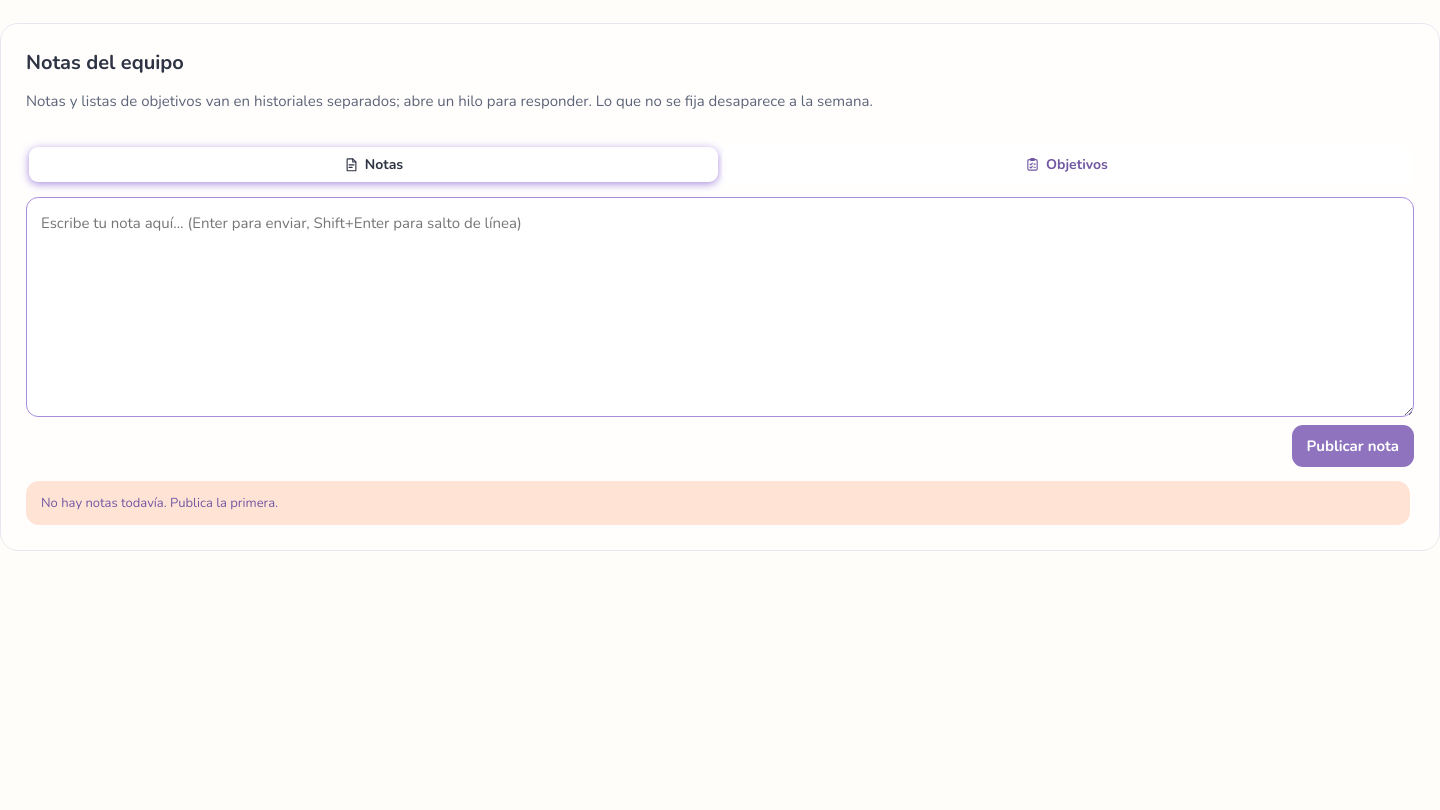
Notas: historiales separados por pestaña › al editar una lista se pueden cambiar sus objetivos (editar texto y agregar)
Click the button "Objetivos" at (1066, 164), box [722, 147, 1411, 182]
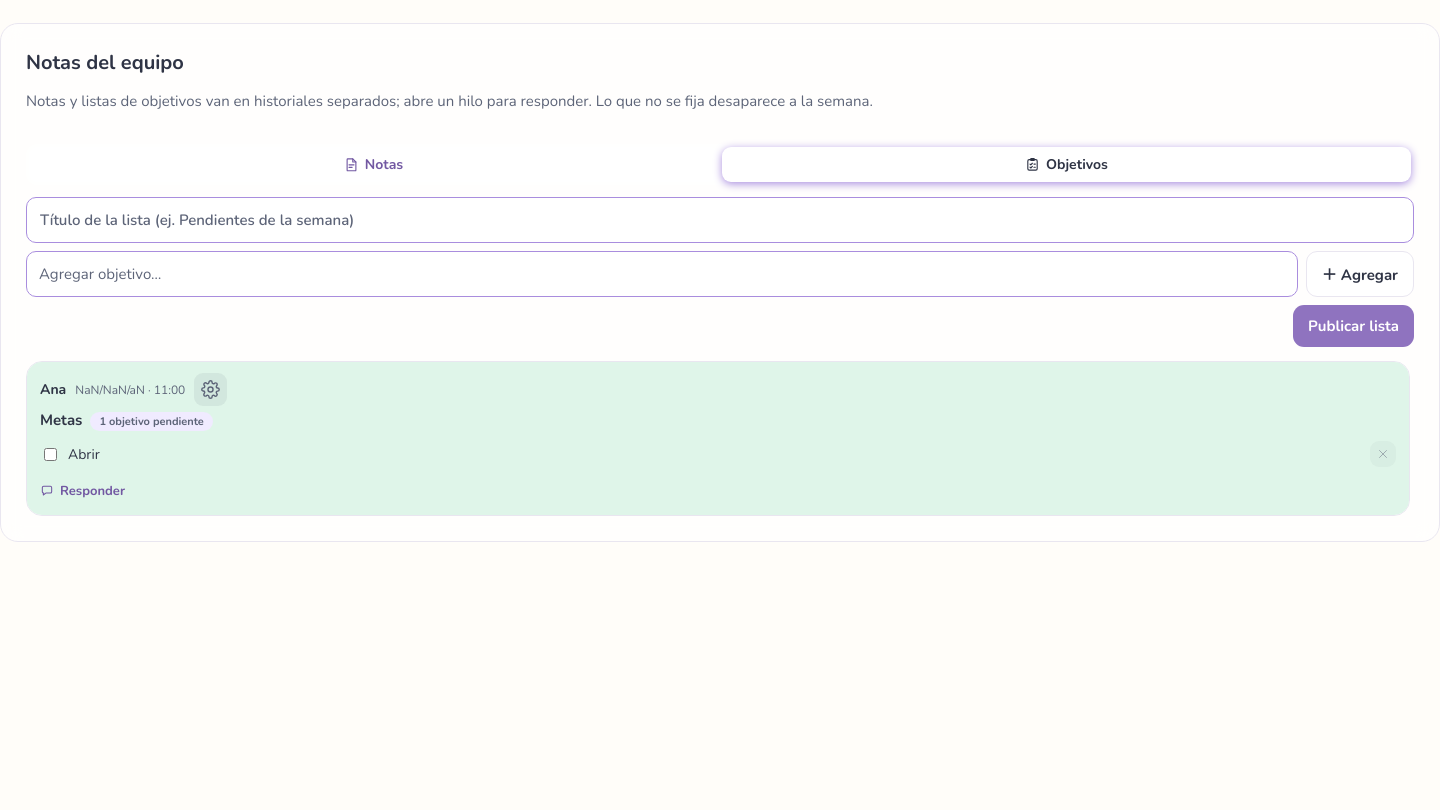
Click the button titled "Opciones" at (211, 390), box [194, 373, 227, 406]
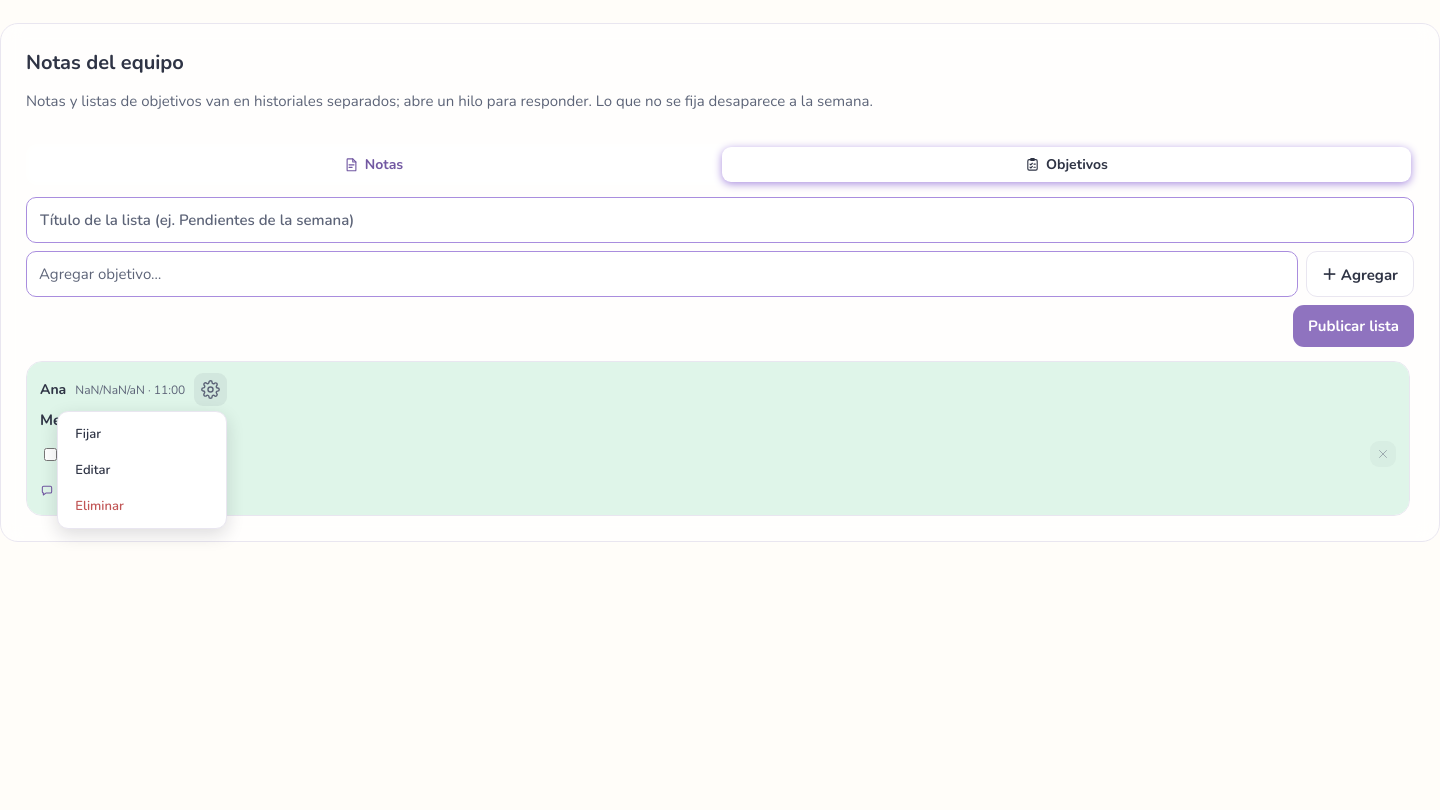
Click the button "Editar" at (142, 470), box [63, 453, 221, 487]
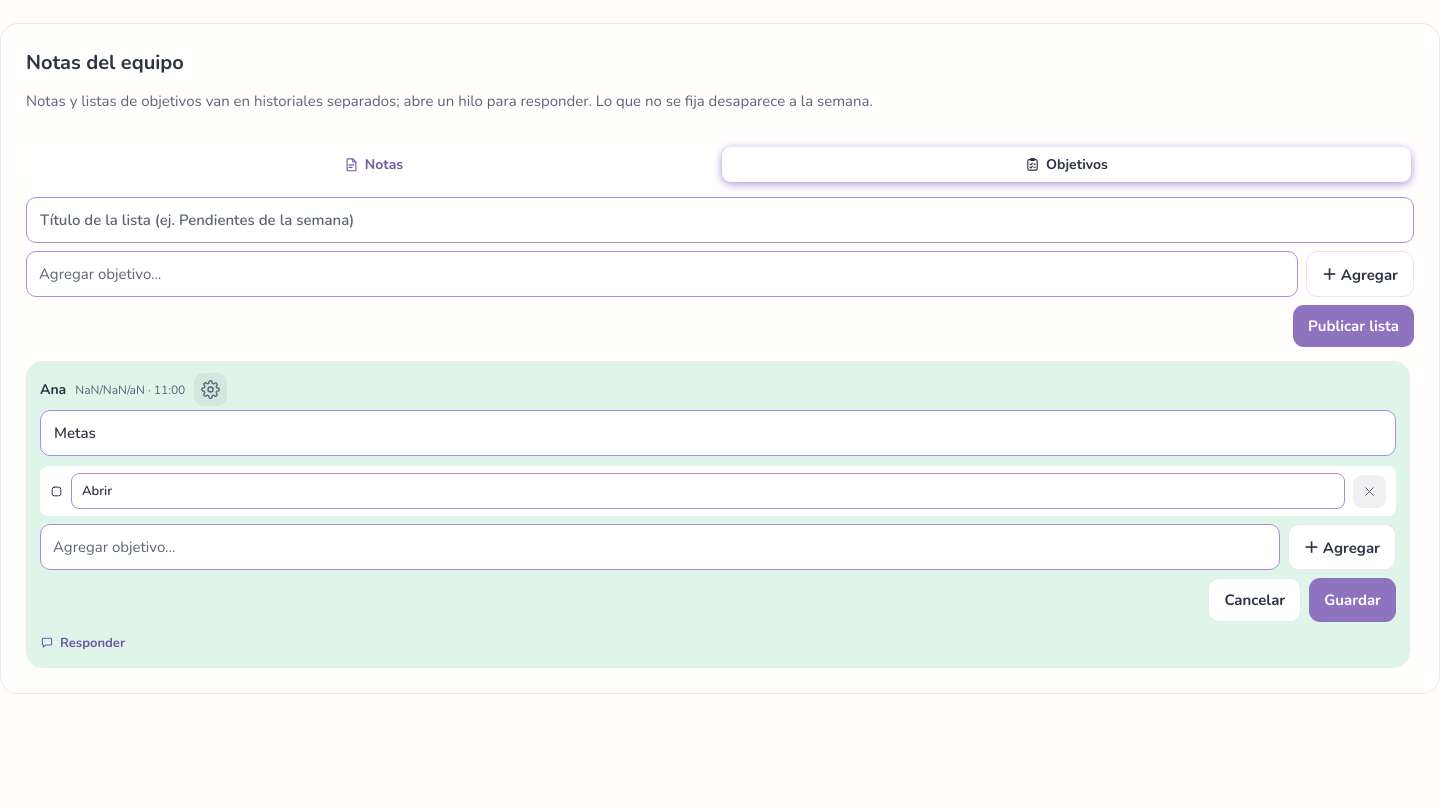
Now the element with class "checklist-edit-box" is shown, box [40, 410, 1396, 622]
Now the field with class "checklist-edit-item" holds "Abrir"
Replace the text in the field with class "checklist-edit-item" with "Abrir la tienda" at (708, 491), box [71, 473, 1345, 509]
Type "Cerrar bien" into the field with placeholder "Agregar objetivo…" below "NaN/NaN/aN" at (660, 547), box [40, 524, 1280, 570]
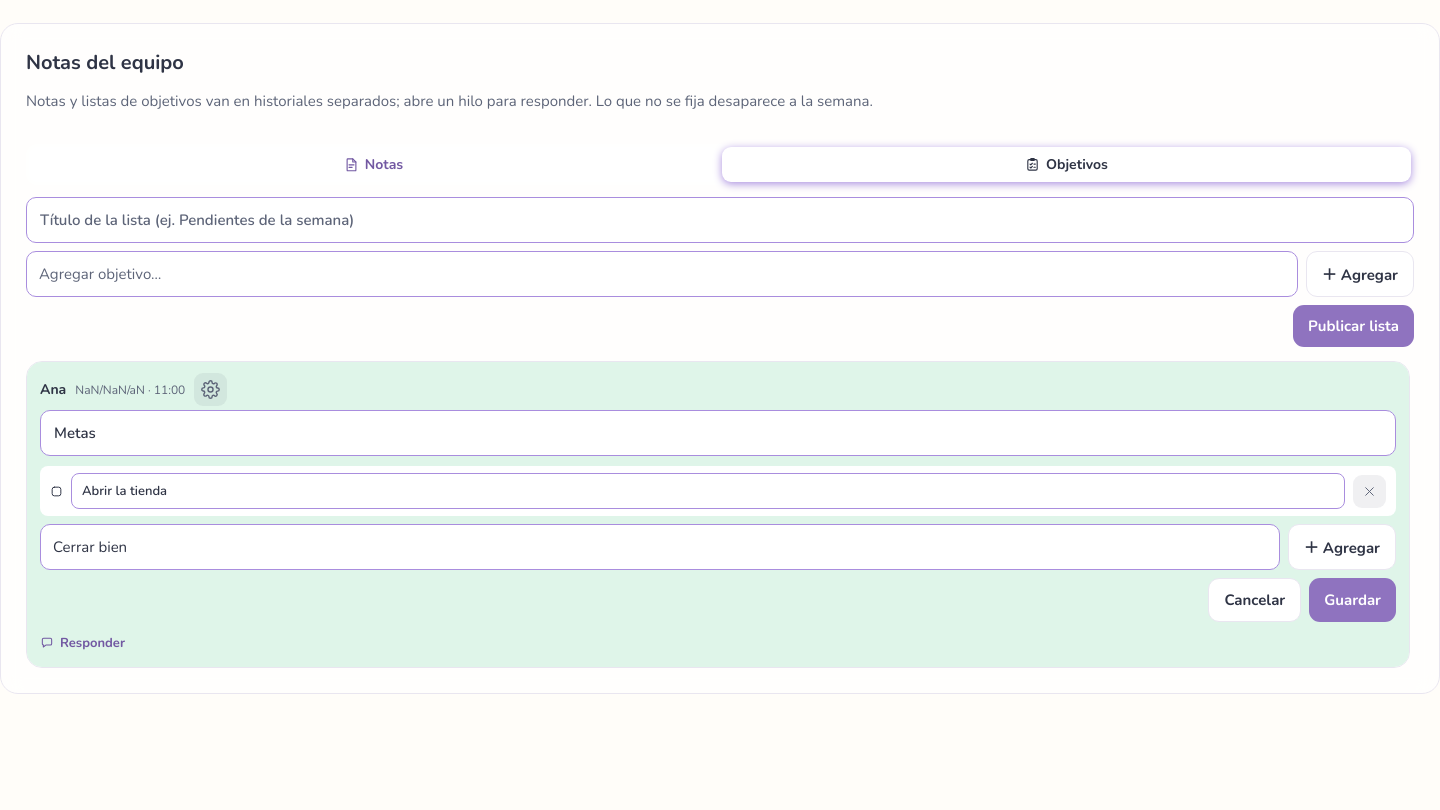
Click the 2nd button "＋ Agregar" at (1342, 547), box [1288, 524, 1396, 570]
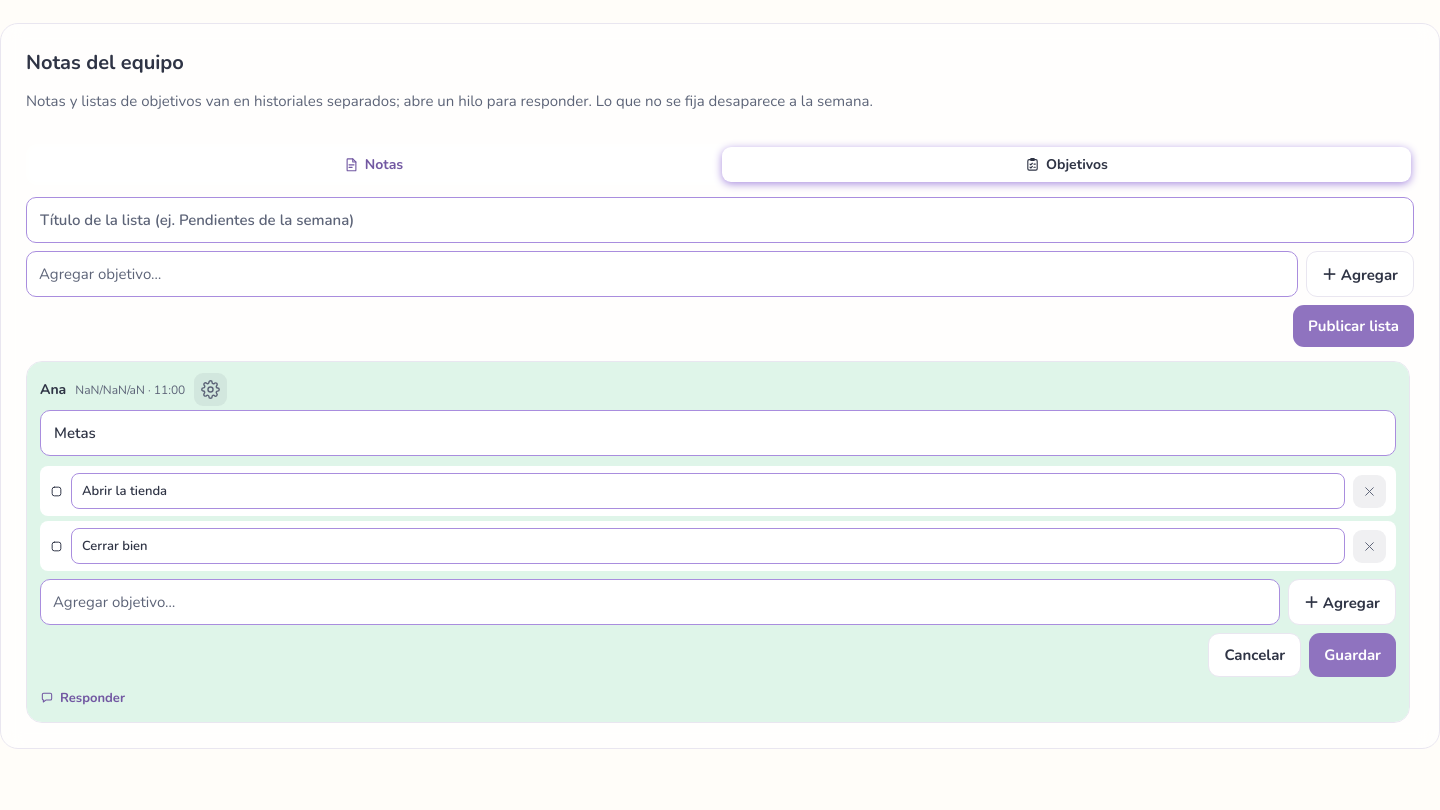
Click the button "Guardar" at (1353, 655), box [1309, 633, 1396, 677]
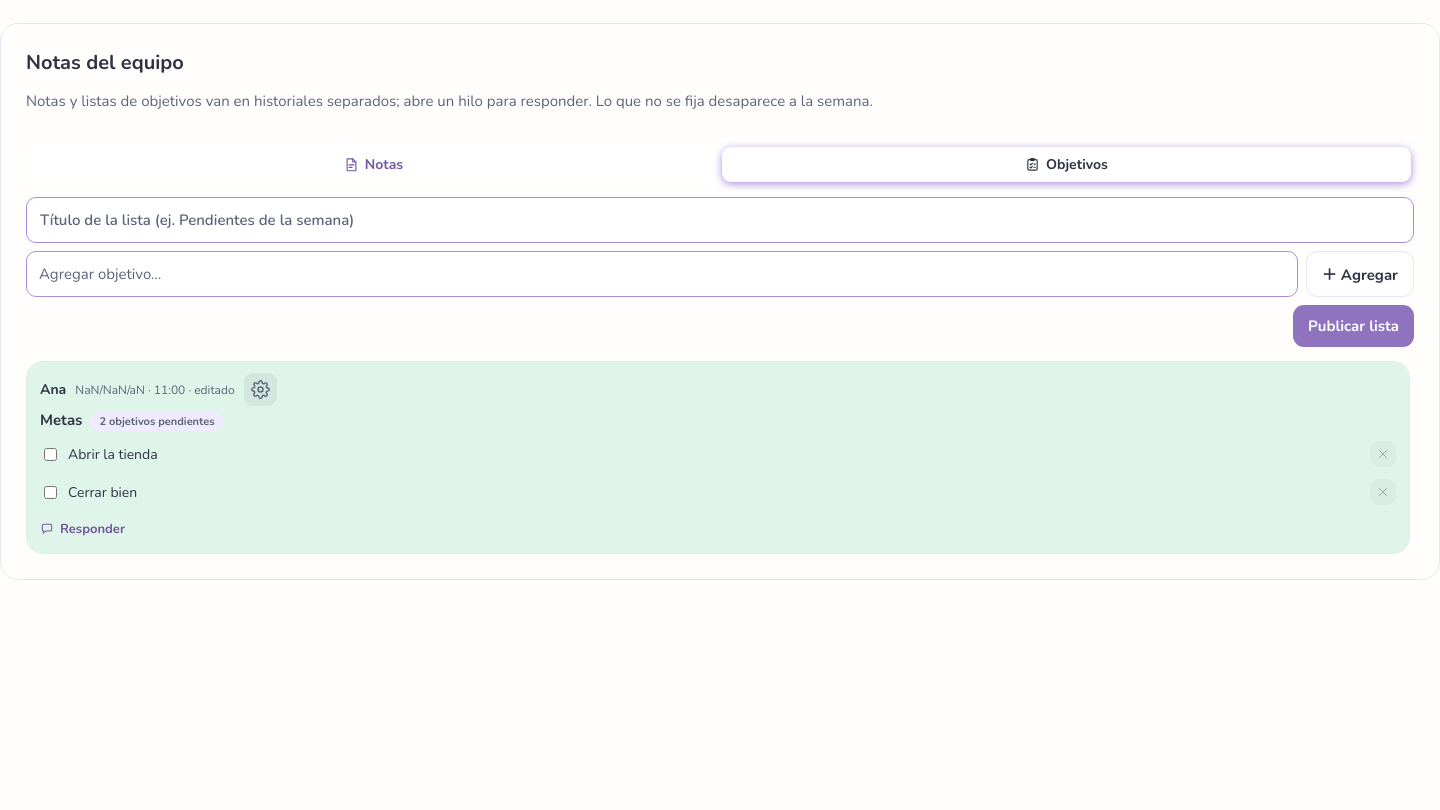
Now the text "Metas" is shown, box [40, 410, 82, 430]
Now the text "Abrir la tienda" is shown, box [68, 444, 158, 464]
Now the text "Cerrar bien" is shown, box [68, 482, 137, 502]
